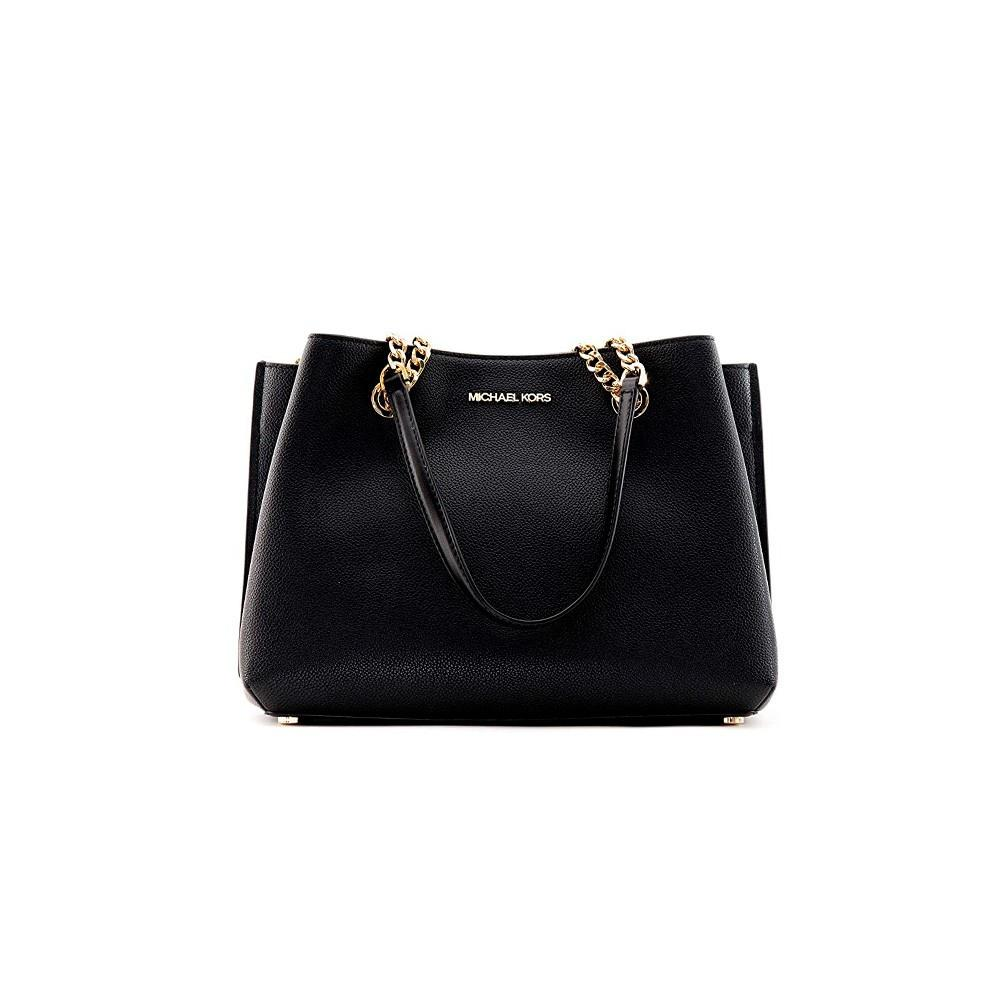MICHAEL-KORS: (469, 392, 551, 402)
